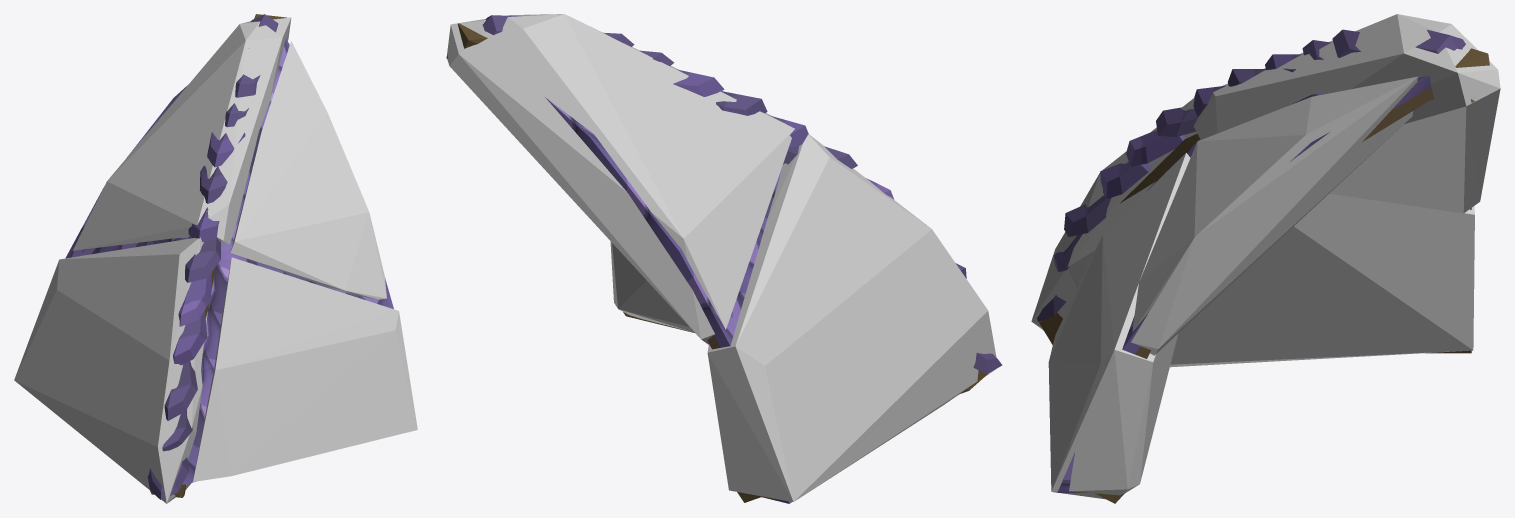
The model's file is SM_Bld_Roof_Convex_Corner_02.fbx.
The picture shows the model from 3 angles, left to right: view 1: azimuth 30°, elevation 25°; view 2: azimuth 150°, elevation 25°; view 3: azimuth 270°, elevation 25°; orthographic projection. The views are drawn at different scales.
Visible parts, largest first — view 1: SM_Bld_Roof_Convex_Corner_02_ConvexHulls, SM_Bld_Roof_Convex_Corner_02; view 2: SM_Bld_Roof_Convex_Corner_02_ConvexHulls, SM_Bld_Roof_Convex_Corner_02; view 3: SM_Bld_Roof_Convex_Corner_02_ConvexHulls, SM_Bld_Roof_Convex_Corner_02.
Boxes of the visible parts, x1,y1,x2,y2 form: SM_Bld_Roof_Convex_Corner_02_ConvexHulls: [14, 17, 417, 503]; SM_Bld_Roof_Convex_Corner_02: [65, 14, 393, 499]; SM_Bld_Roof_Convex_Corner_02_ConvexHulls: [446, 14, 996, 501]; SM_Bld_Roof_Convex_Corner_02: [446, 15, 1002, 503]; SM_Bld_Roof_Convex_Corner_02_ConvexHulls: [1031, 14, 1500, 499]; SM_Bld_Roof_Convex_Corner_02: [1037, 22, 1489, 503].
Size of the model in its own units: 289 by 296 by 334.
Materials: 4 (3 with a texture image).
